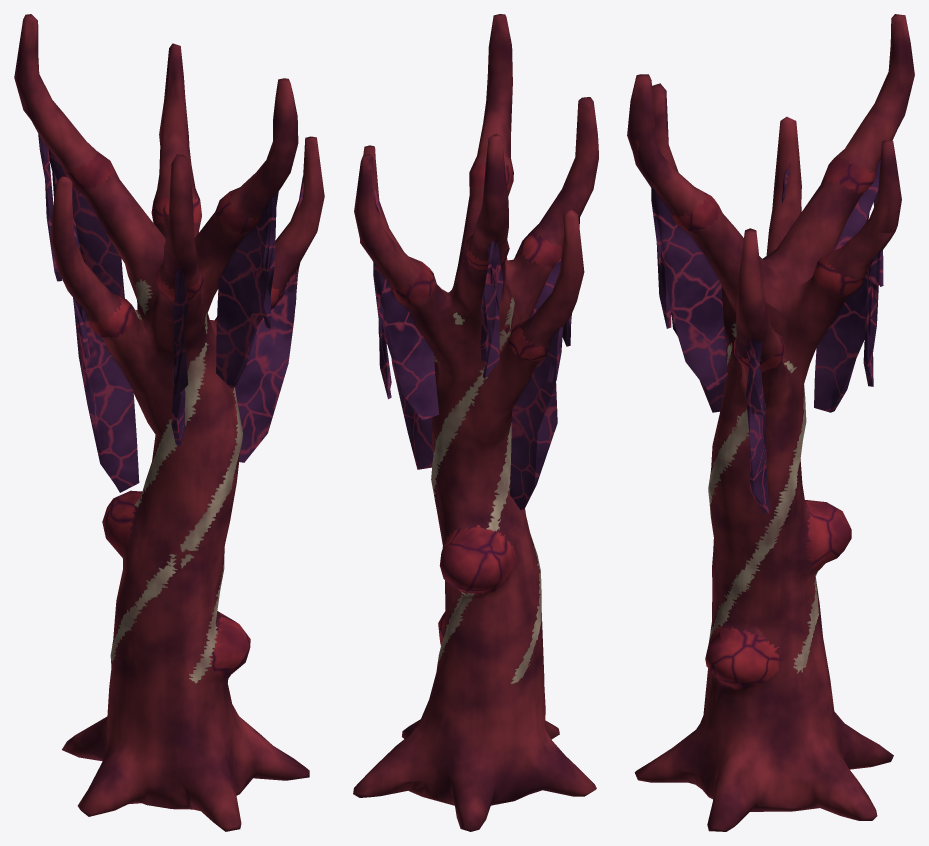
File: arbol_carne.fbx
3 renders of one model, left to right at view 1: azimuth 30°, elevation 25°; view 2: azimuth 150°, elevation 25°; view 3: azimuth 270°, elevation 25°, orthographic. The views are drawn at different scales.
Parts seen in each view (by area): view 1: arbol; view 2: arbol; view 3: arbol.
Boxes of the visible parts, bbox=[...] form: arbol: bbox=[14, 14, 324, 831]; arbol: bbox=[353, 14, 598, 831]; arbol: bbox=[627, 14, 914, 831].
Bounding box in the file's own units: 5 × 13.97 × 5.01.
1 material, 1 textured.
